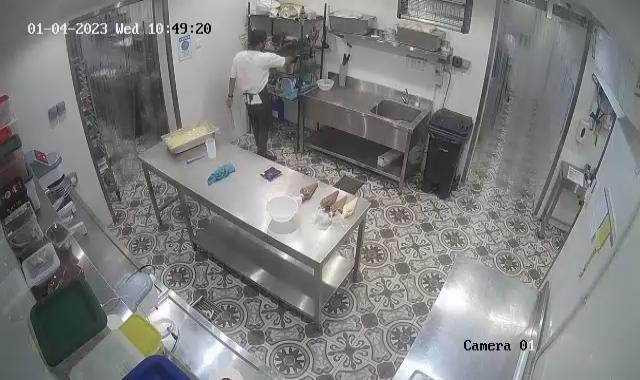no_hairnet: (246, 26, 268, 49)
